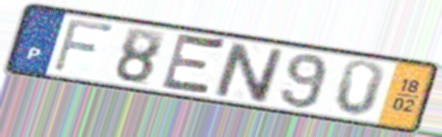0: (332, 59, 388, 119)
8: (112, 27, 165, 86)
9: (276, 51, 330, 111)
E: (157, 29, 230, 100)
F: (49, 16, 118, 75)
N: (212, 39, 286, 105)
